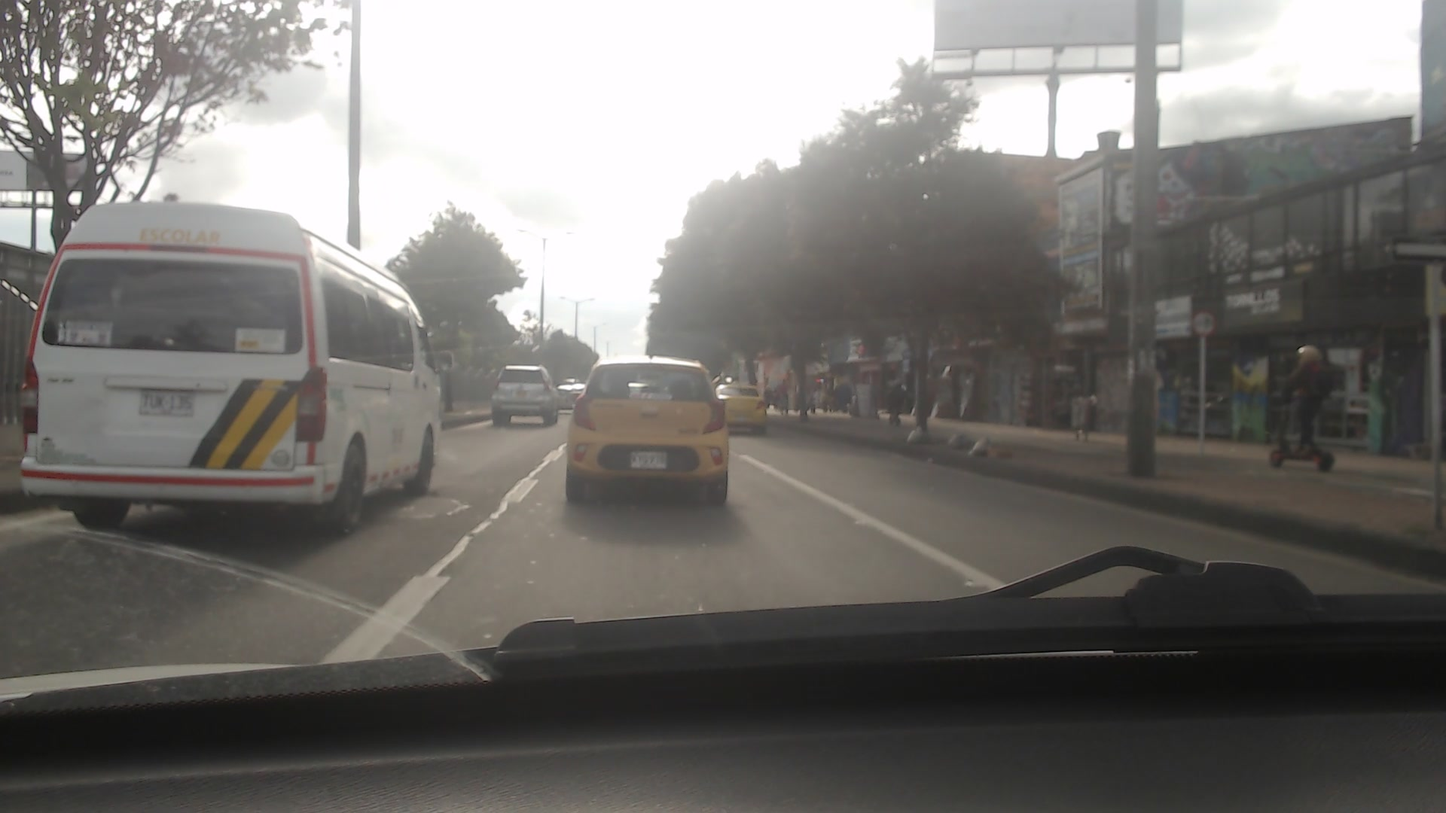bus: (23, 196, 445, 529)
car: (564, 347, 732, 508), (488, 365, 560, 430), (707, 379, 770, 432)
person: (1279, 332, 1333, 460)
